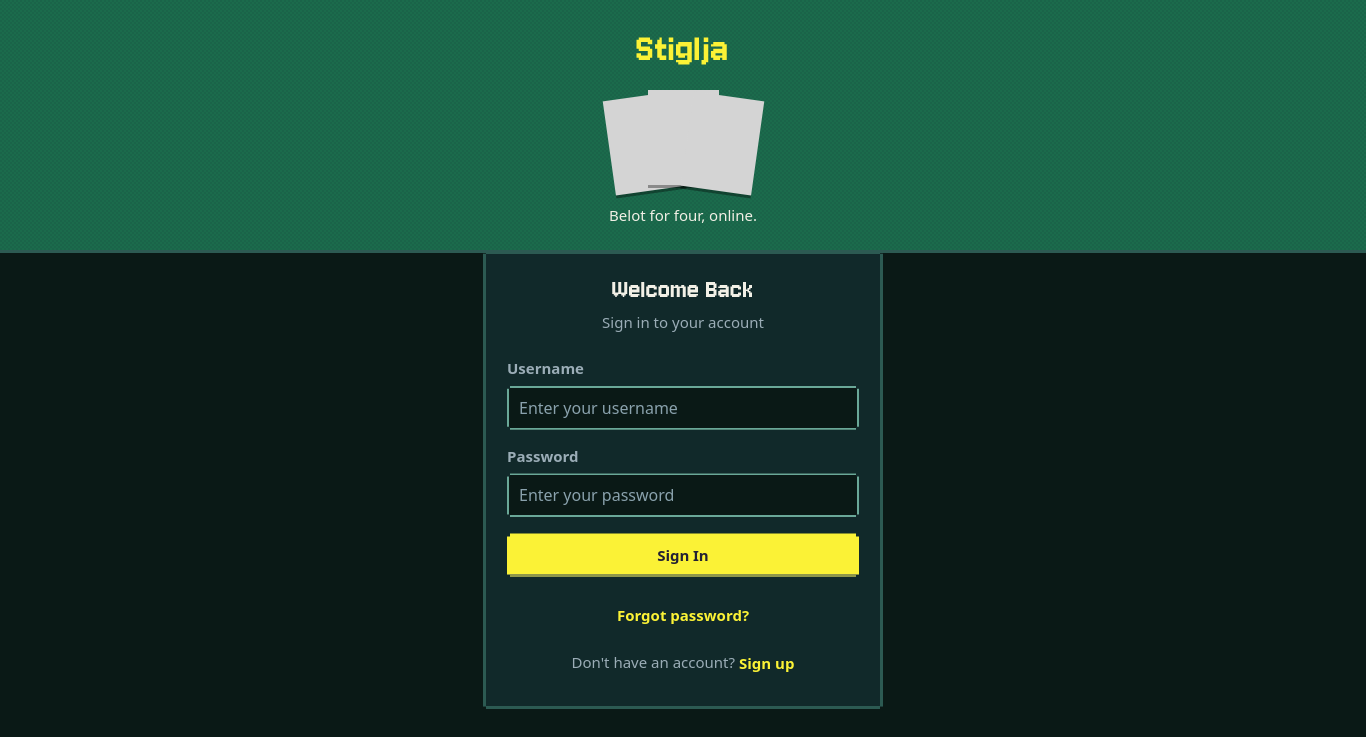
Test: Sign in and sign up are two URLs (X-2) › "Sign up" is a link to /signup, which shows the sign-up form and still carries the return path
Click the link "Sign up": point(767, 662) [739,652,794,672]
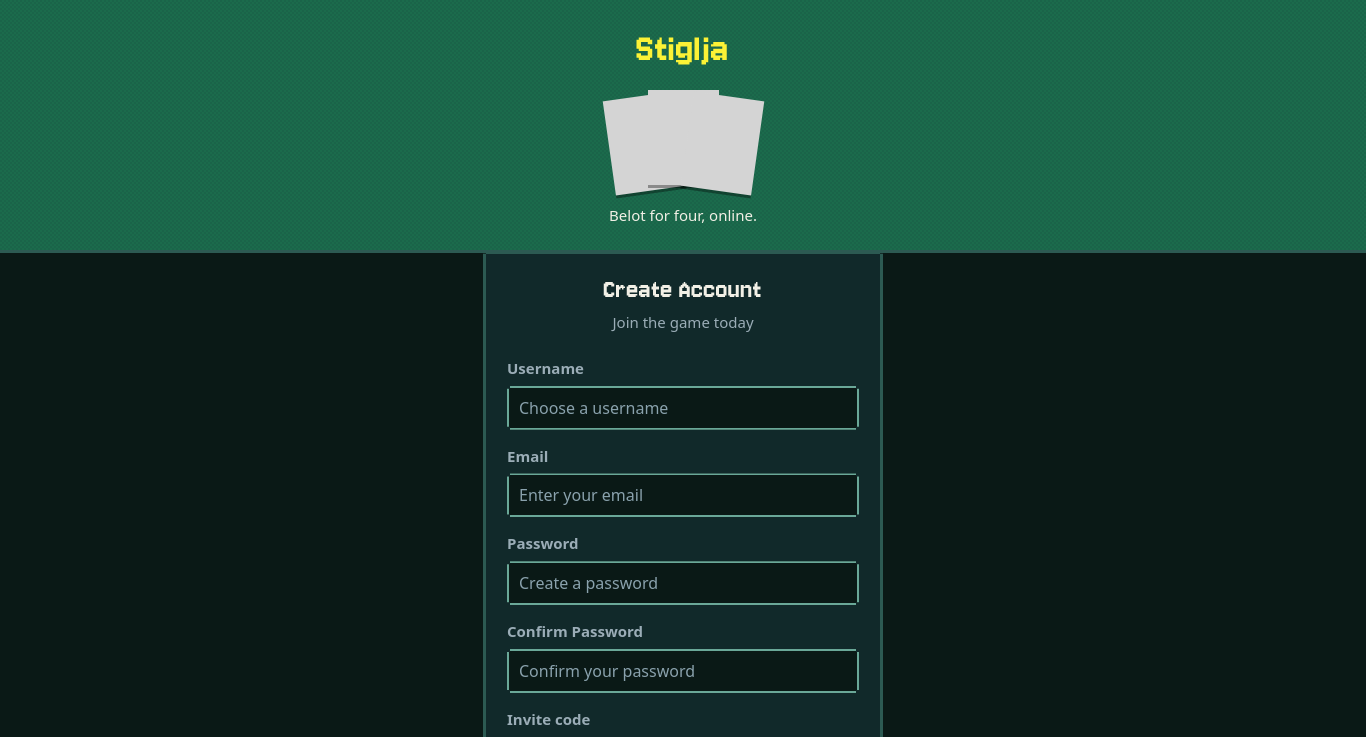
expect the heading "Create Account" is shown: met, box [604,274,762,305]
